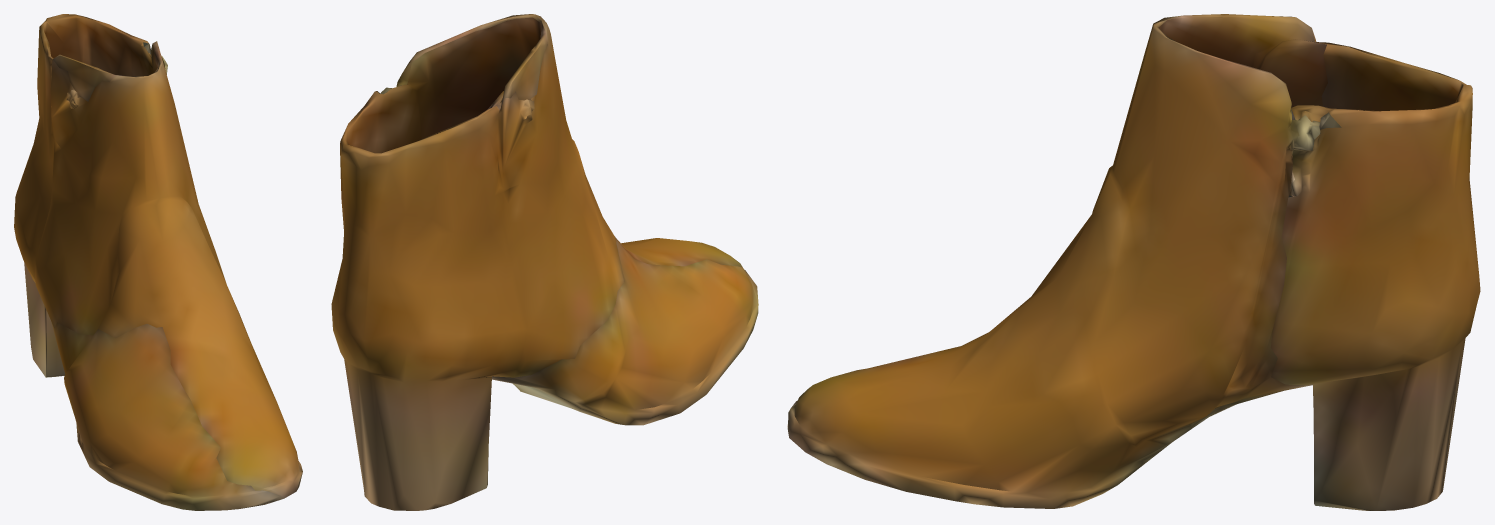
The model's file is Tory_Burch_Sabe_65mm_Bootie_Split_Suede_in_Caramel-medium.glb.
The picture shows the model from 3 angles, left to right: view 1: azimuth 30°, elevation 25°; view 2: azimuth 150°, elevation 25°; view 3: azimuth 270°, elevation 25°; orthographic projection. The views are drawn at different scales.
Visible parts, largest first — view 1: Tory_Burch_Sabe_65mm_Bootie_Split_Suede_in_Caramel; view 2: Tory_Burch_Sabe_65mm_Bootie_Split_Suede_in_Caramel; view 3: Tory_Burch_Sabe_65mm_Bootie_Split_Suede_in_Caramel.
Part boxes in pixels (x1,y1,x2,y2): Tory_Burch_Sabe_65mm_Bootie_Split_Suede_in_Caramel: (14, 14, 302, 510); Tory_Burch_Sabe_65mm_Bootie_Split_Suede_in_Caramel: (331, 14, 758, 510); Tory_Burch_Sabe_65mm_Bootie_Split_Suede_in_Caramel: (787, 14, 1480, 510).
Size of the model in its own units: 0.0935 by 0.18 by 0.2493.
1 material, 1 textured.
